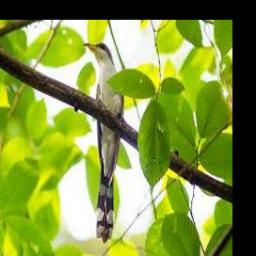Cuckoo: (83, 42, 123, 242)
